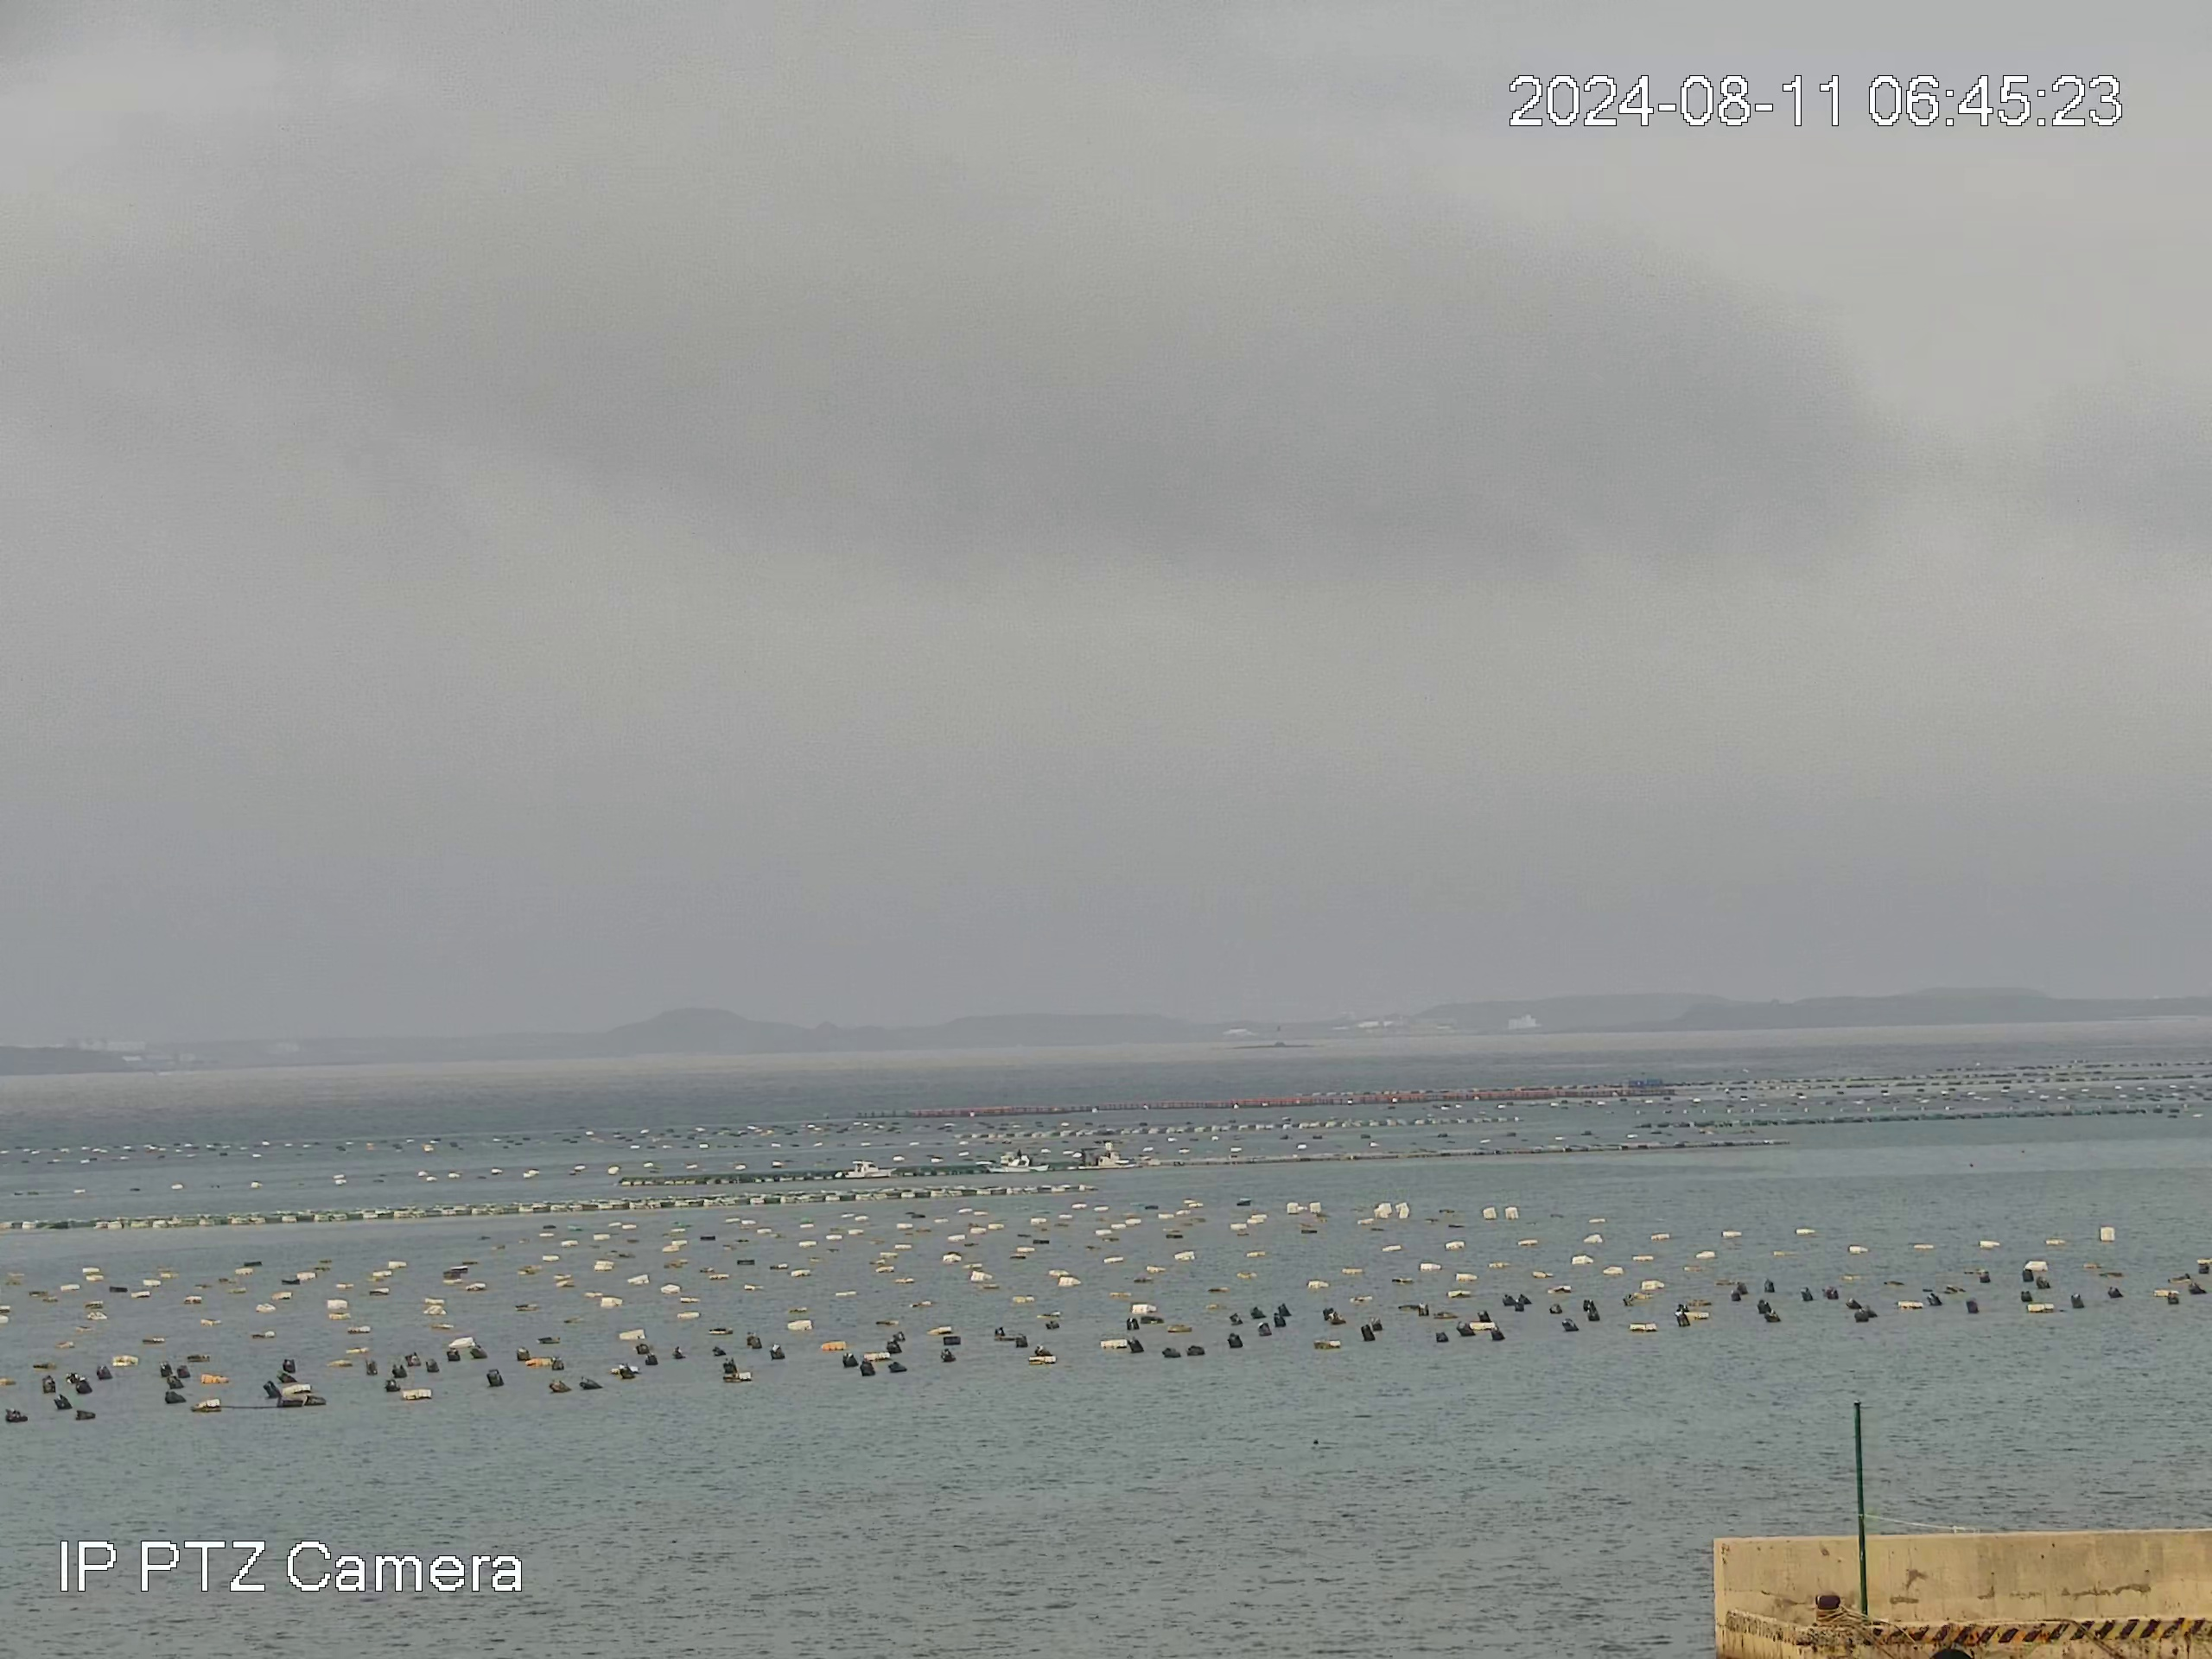boat: (974, 1152, 1050, 1175), (833, 1159, 894, 1180), (1066, 1152, 1120, 1171)
